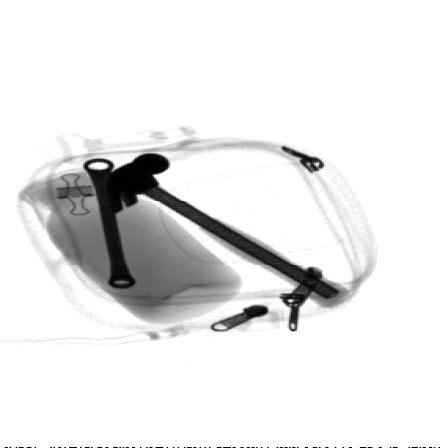Hammer: (106, 152, 351, 309)
Wrench: (81, 157, 137, 289)
